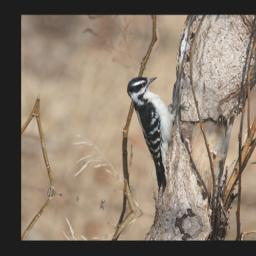Woodpecker: (108, 70, 194, 197)
